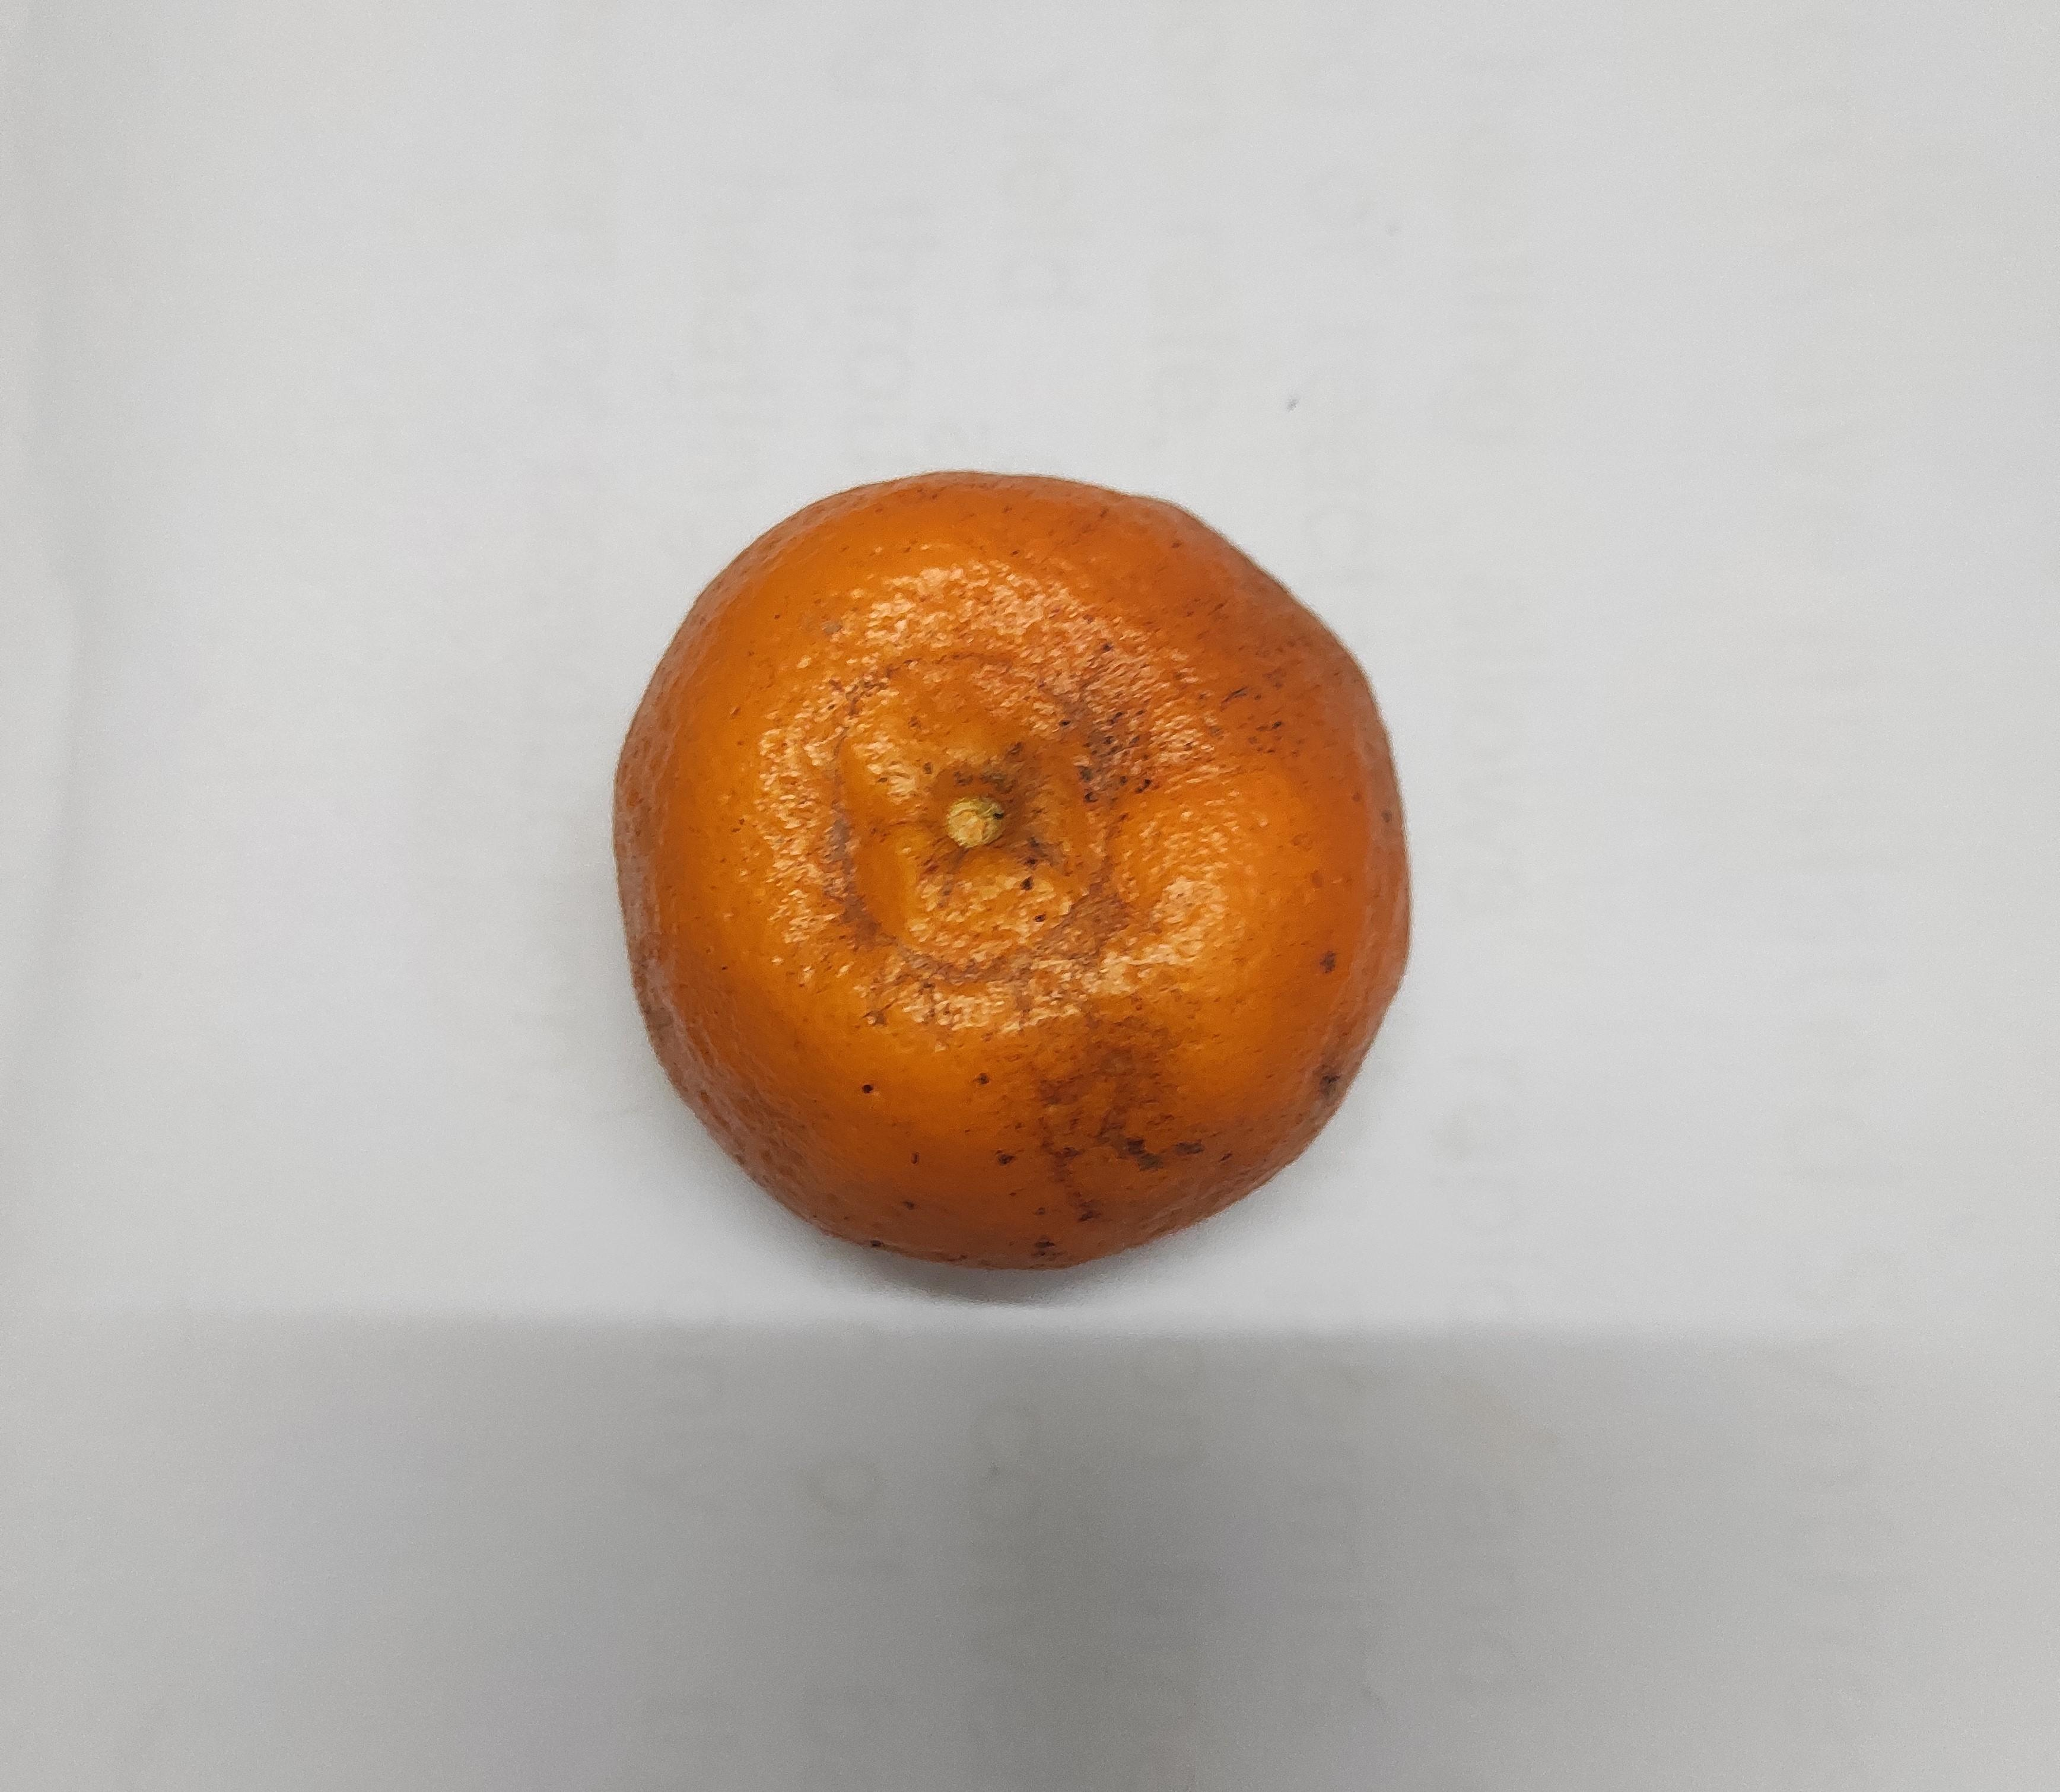Unripe: (629, 480, 1389, 1275)
